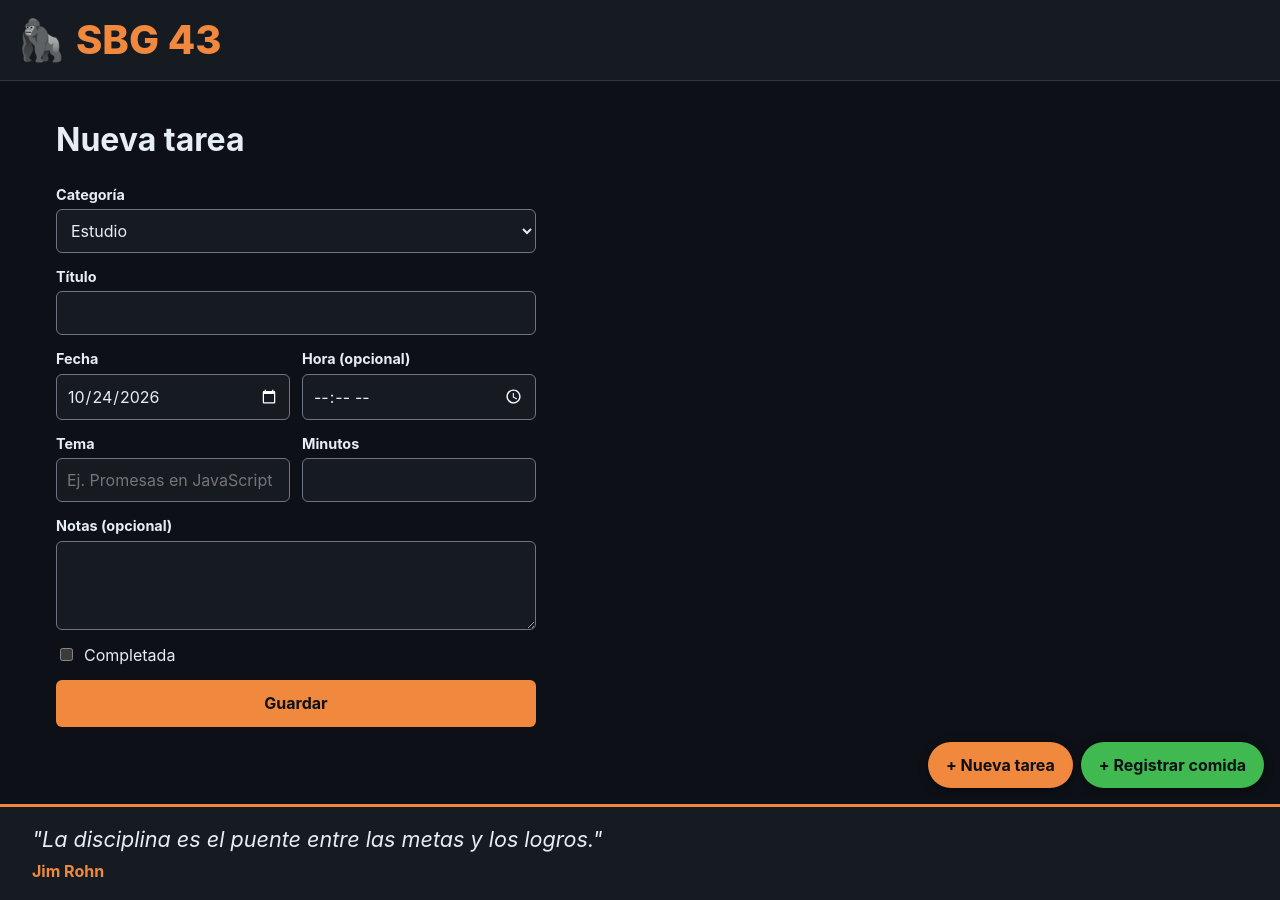
Test: crea una tarea desde el formulario y aparece en el calendario
The width and height of the screenshot is (1280, 900).
Type "Repasar Playwright" into the field labelled "Título" at (296,313), box [56, 291, 536, 335]
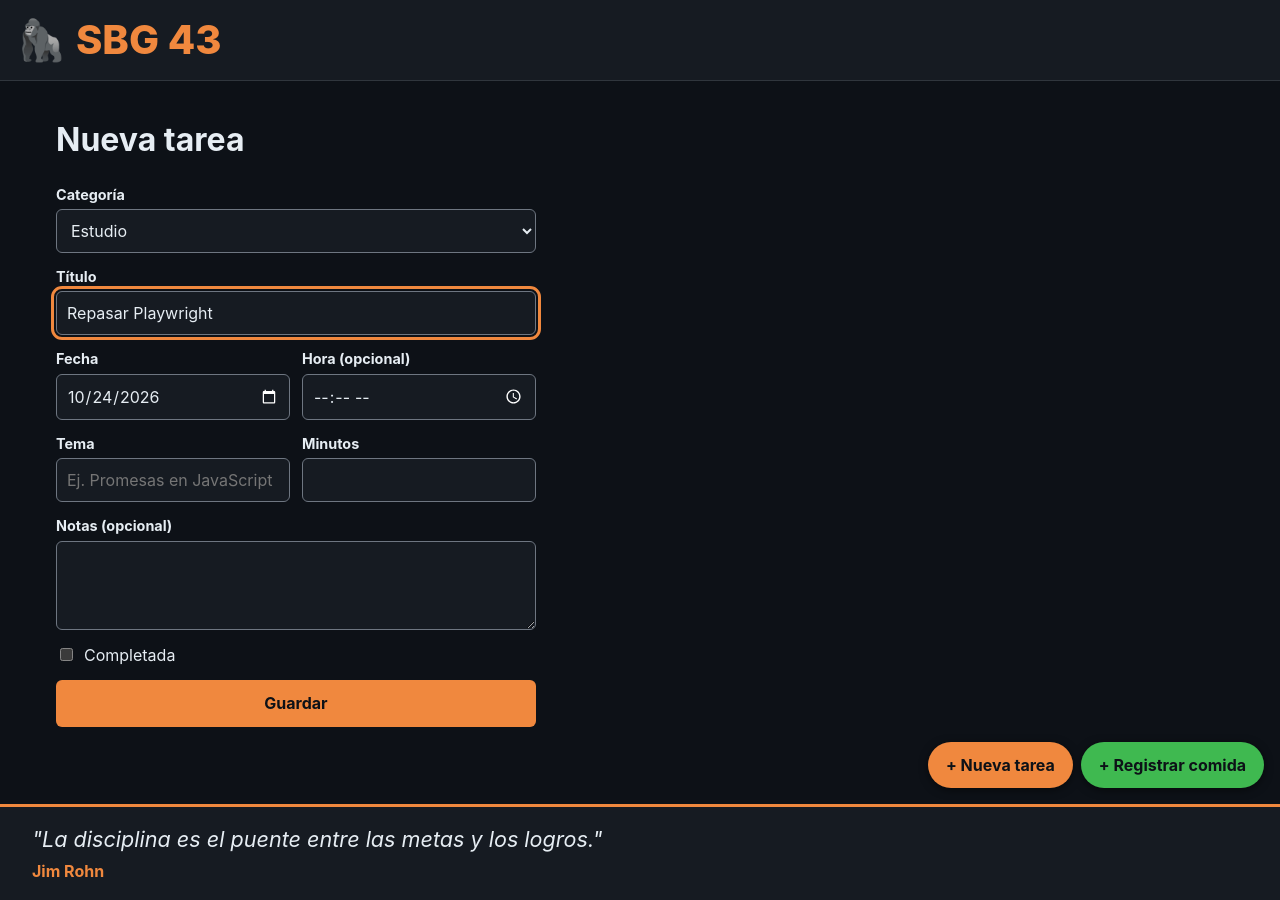
Click the button "Guardar" at (296,703), box [56, 680, 536, 727]
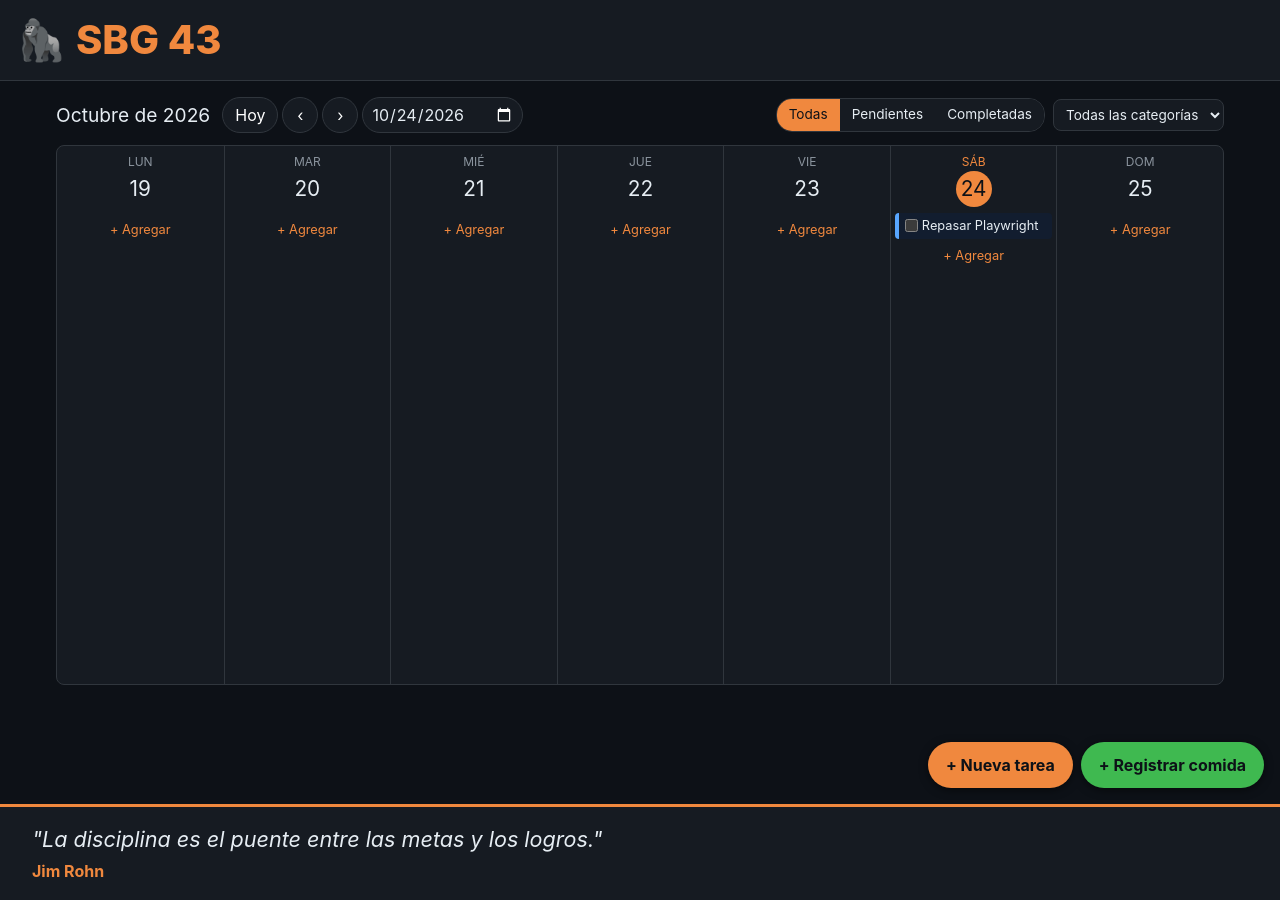
Expected: the link "Repasar Playwright" is shown, [922, 217, 1046, 235]
